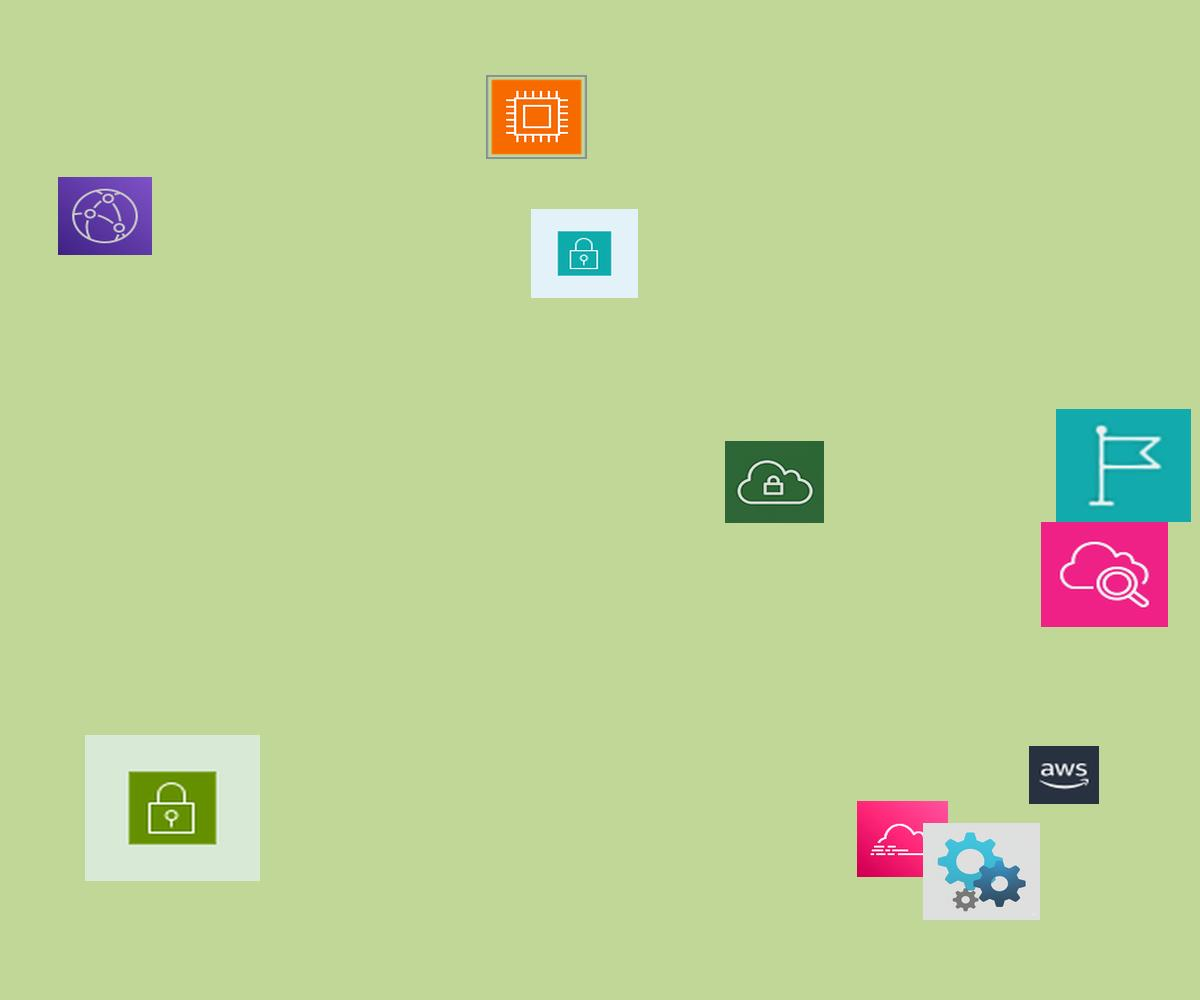AWS-Category_Compute: (486, 75, 587, 159)
AWS-Cloud-logo: (1029, 746, 1099, 804)
AWS-CloudFront: (58, 177, 152, 255)
AWS-CloudTrail: (857, 801, 948, 877)
AWS-CloudWatch: (1041, 522, 1168, 627)
AWS-Private-subnet: (531, 209, 638, 298)
AWS-Private_vpc: (725, 441, 824, 523)
AWS-Public-subnet: (85, 735, 260, 881)
AWS-Region: (1056, 409, 1191, 522)
Azure_api: (923, 823, 1040, 920)
